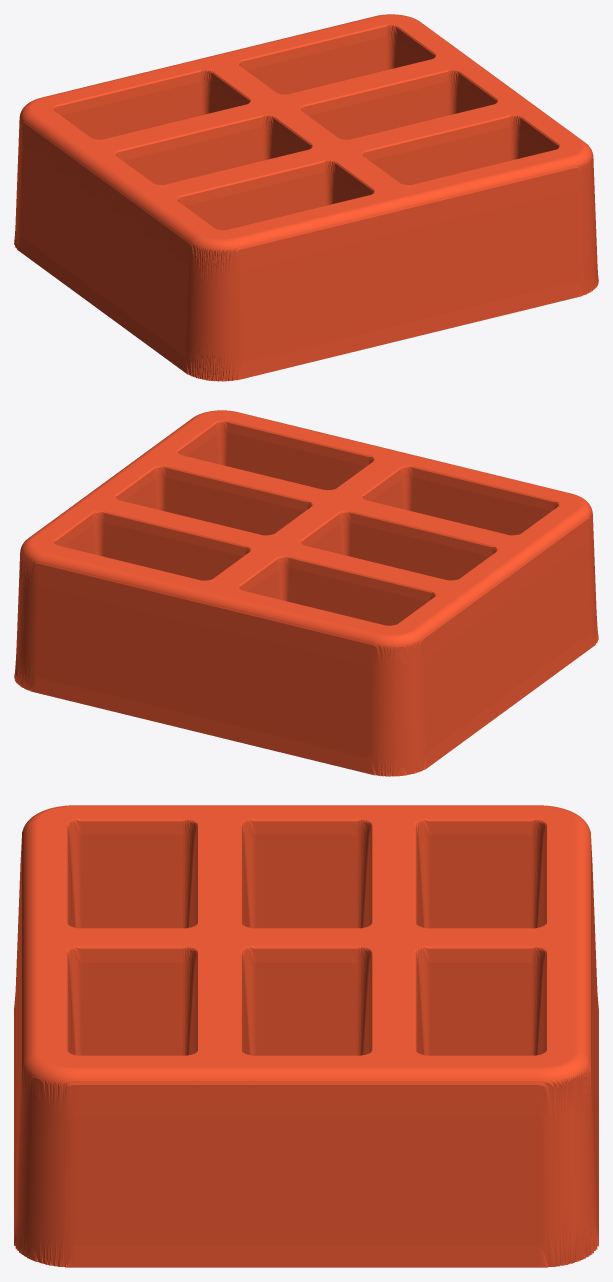
Rendered from mold.glb.
3 views of the same model, one above another, from view 1: azimuth 30°, elevation 25°; view 2: azimuth 150°, elevation 25°; view 3: azimuth 270°, elevation 25° (orthographic). The views are drawn at different scales.
Parts seen in each view (by area): view 1: geometry_0; view 2: geometry_0; view 3: geometry_0.
Boxes of the visible parts, x1,y1,x2,y2 form: geometry_0: (14,14,598,381); geometry_0: (14,410,598,776); geometry_0: (14,805,598,1267).
Bounding box in the file's own units: 0.0996 × 0.0314 × 0.0876.
